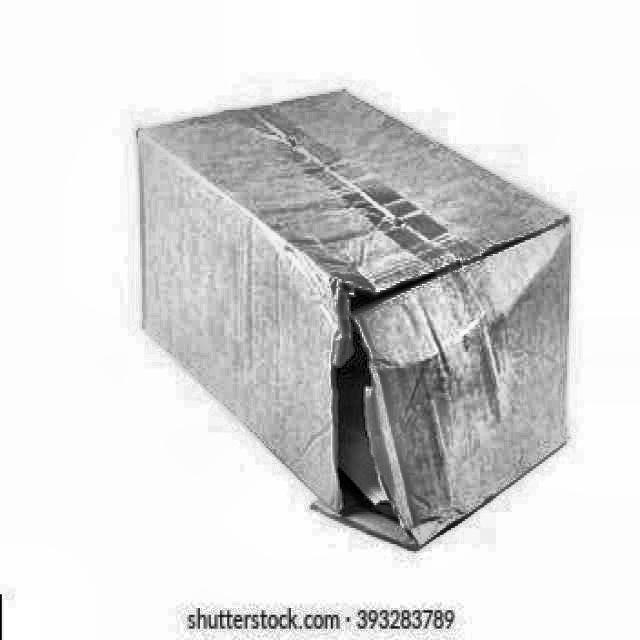box: (116, 80, 586, 558)
hole: (310, 278, 414, 550)
